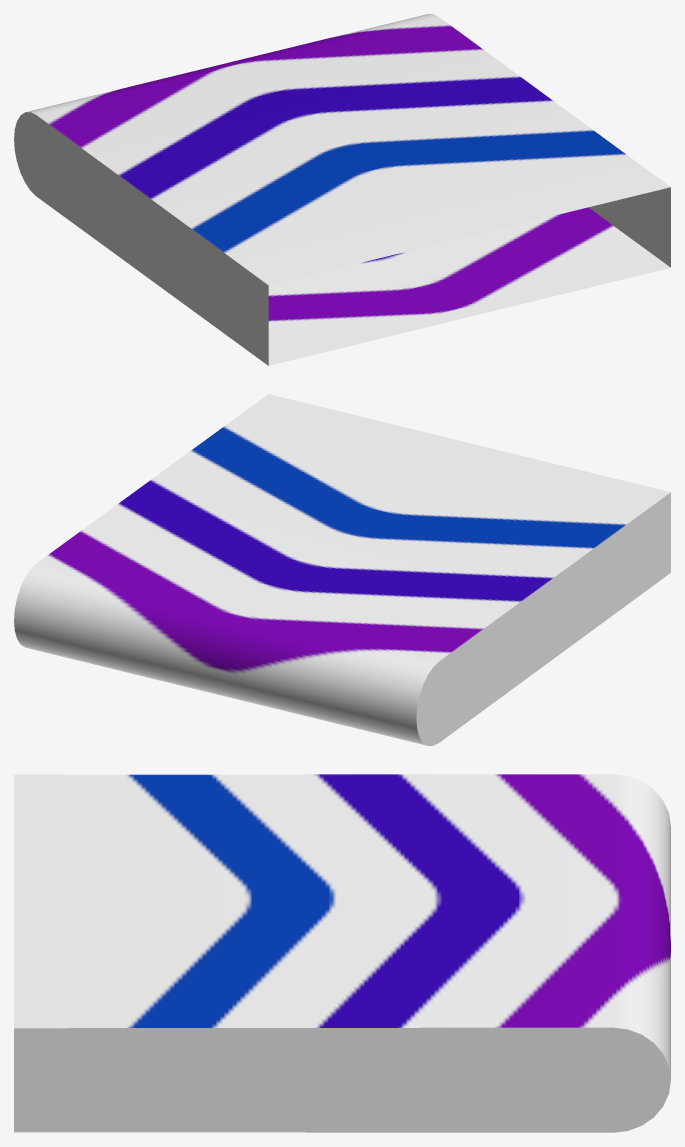
File: CorridorTop_MESH.fbx
3 views of the same model, one above another, from view 1: azimuth 30°, elevation 25°; view 2: azimuth 150°, elevation 25°; view 3: azimuth 270°, elevation 25° (orthographic). The views are drawn at different scales.
Parts seen in each view (by area): view 1: CorridorTop; view 2: CorridorTop; view 3: CorridorTop.
Part boxes in pixels (x1,y1,x2,y2): CorridorTop: (14, 14, 670, 365); CorridorTop: (14, 394, 670, 745); CorridorTop: (14, 774, 670, 1132).
Size of the model in its own units: 272 by 52.66 by 298.
1 material, 1 textured.
